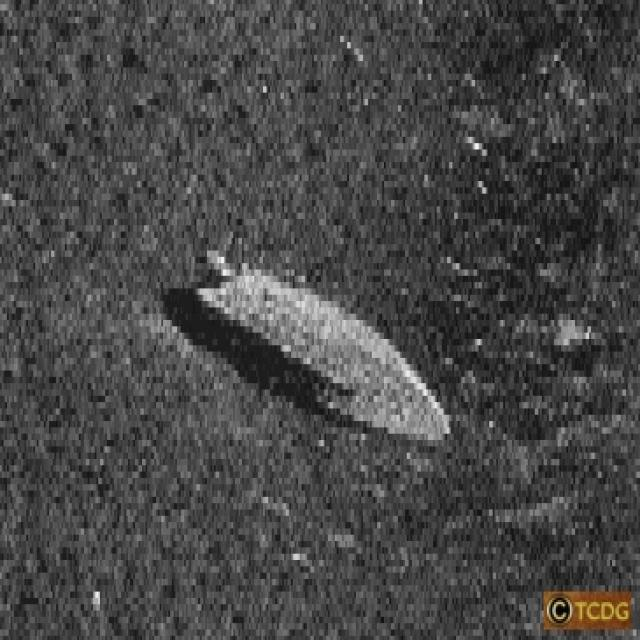ship: (191, 251, 454, 440)
